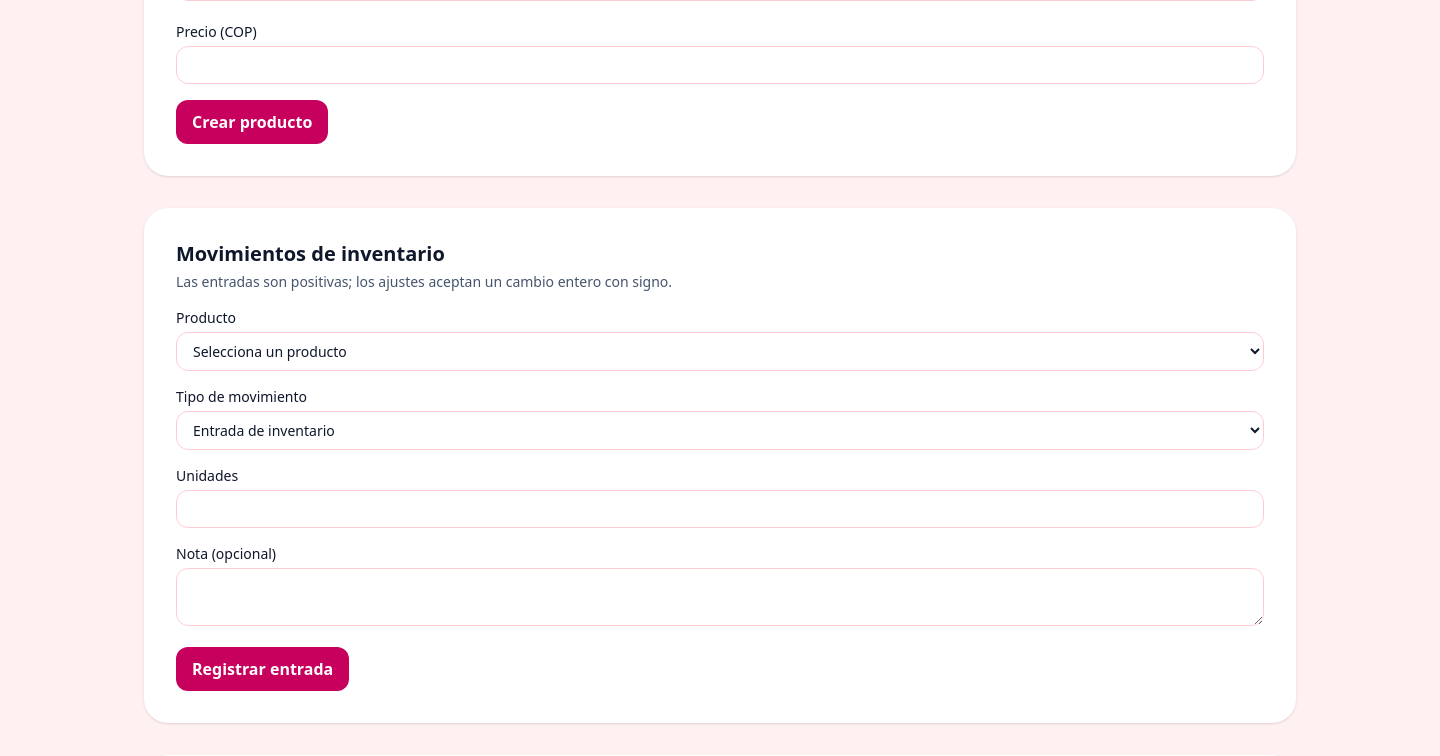
Scenario: administrator stock movement form › blocks duplicate submits while a stock mutation is pending
(page scrolled)
Select "KW-001 · Sticker kawaii" in the dropdown labelled "Producto" at (720,352), box [176,332,1264,371]
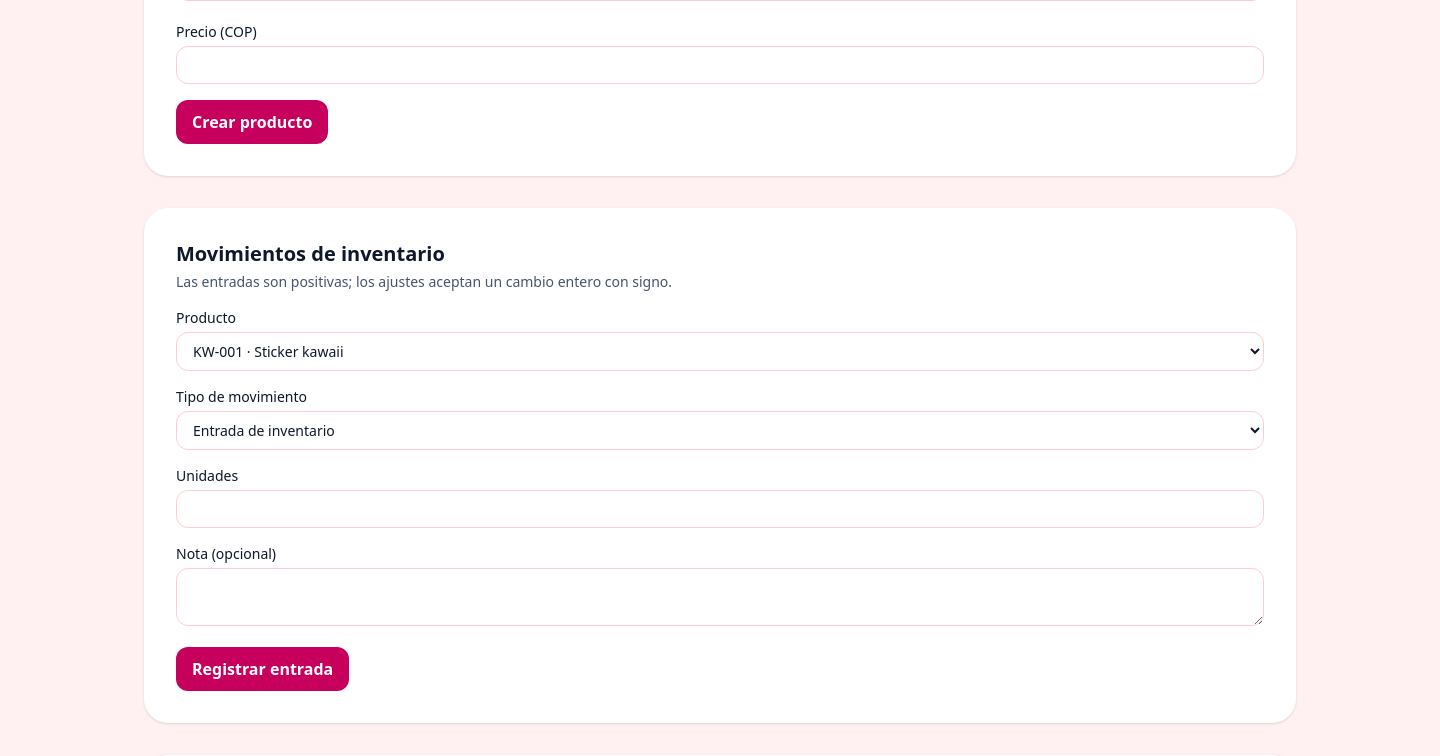
Type "3" into the number field labelled "Unidades" at (720,509), box [176,490,1264,528]
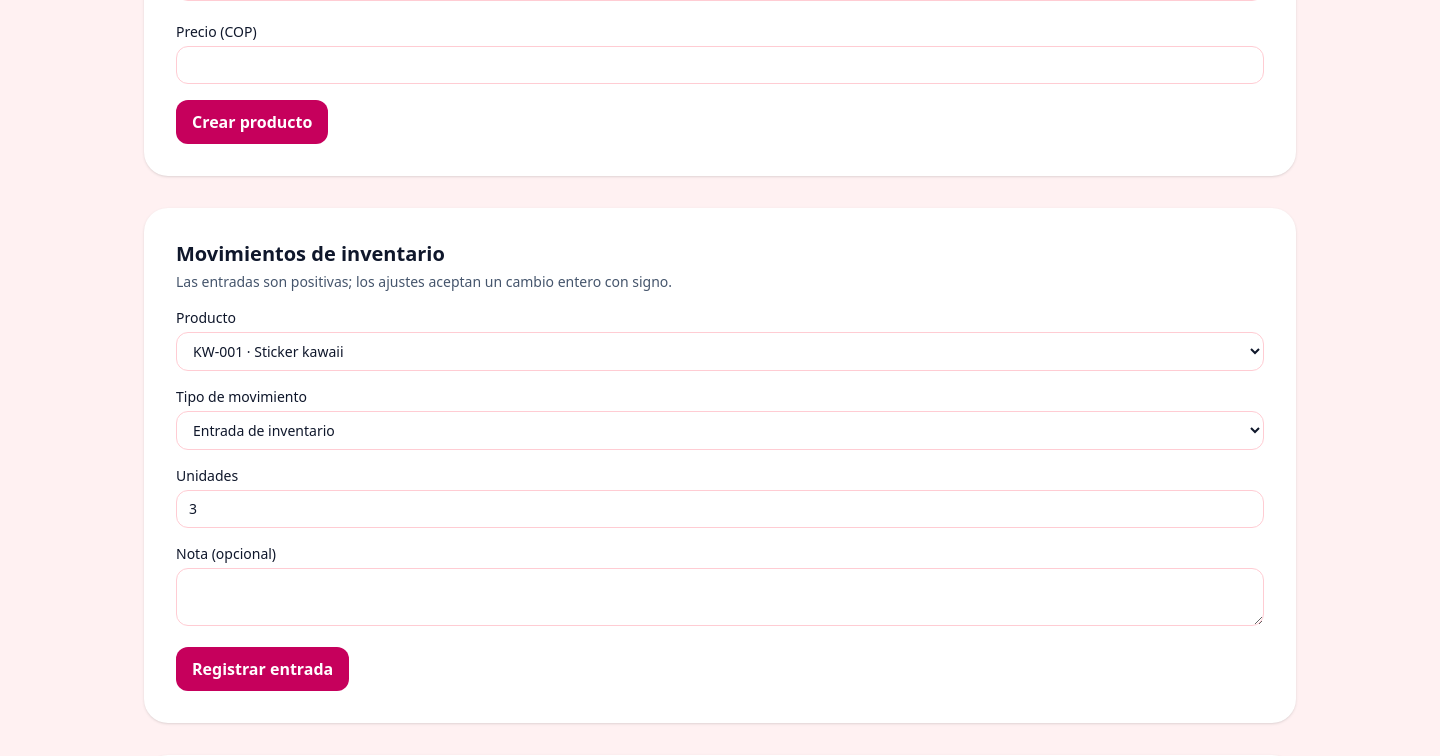
Submit the form named "Registrar movimiento de inventario", box [144,208,1296,723]
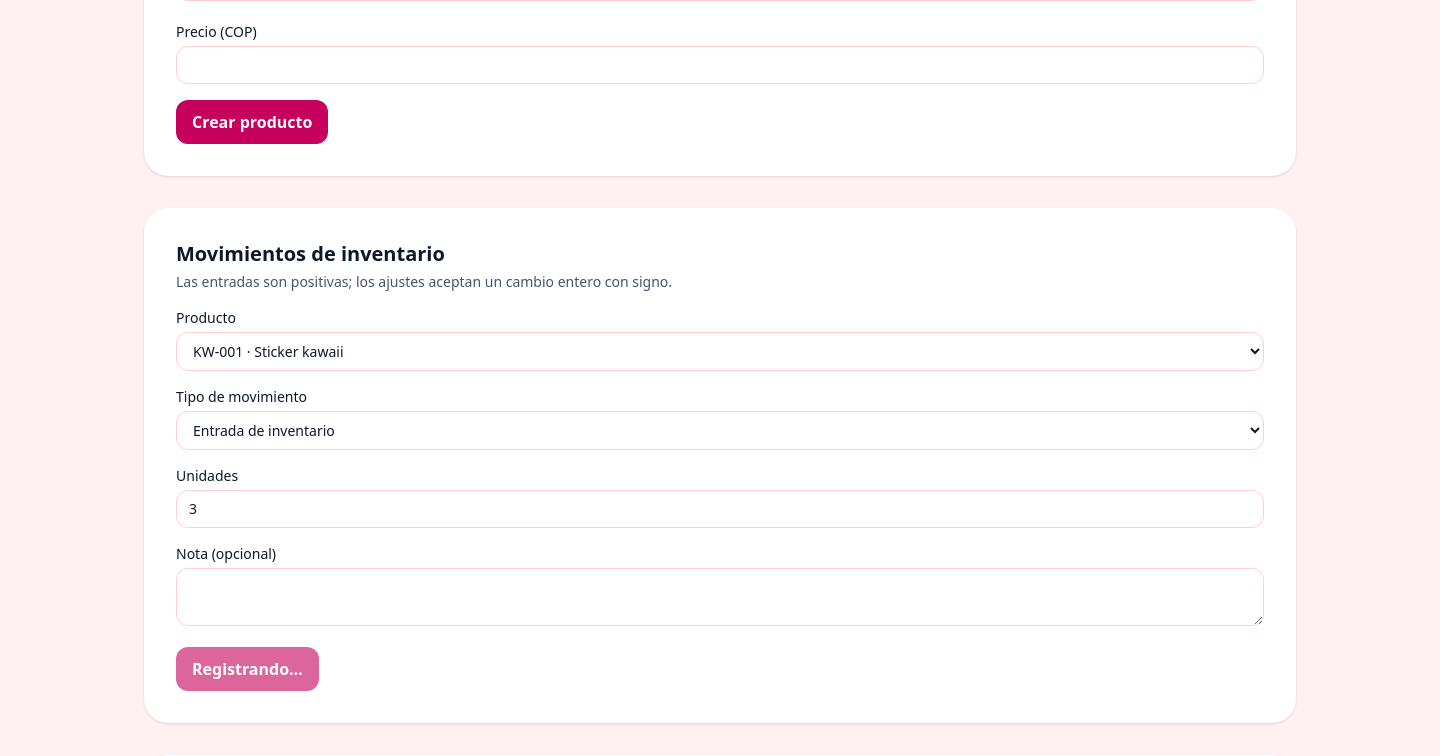
Submit the form named "Registrar movimiento de inventario", box [144,208,1296,723]
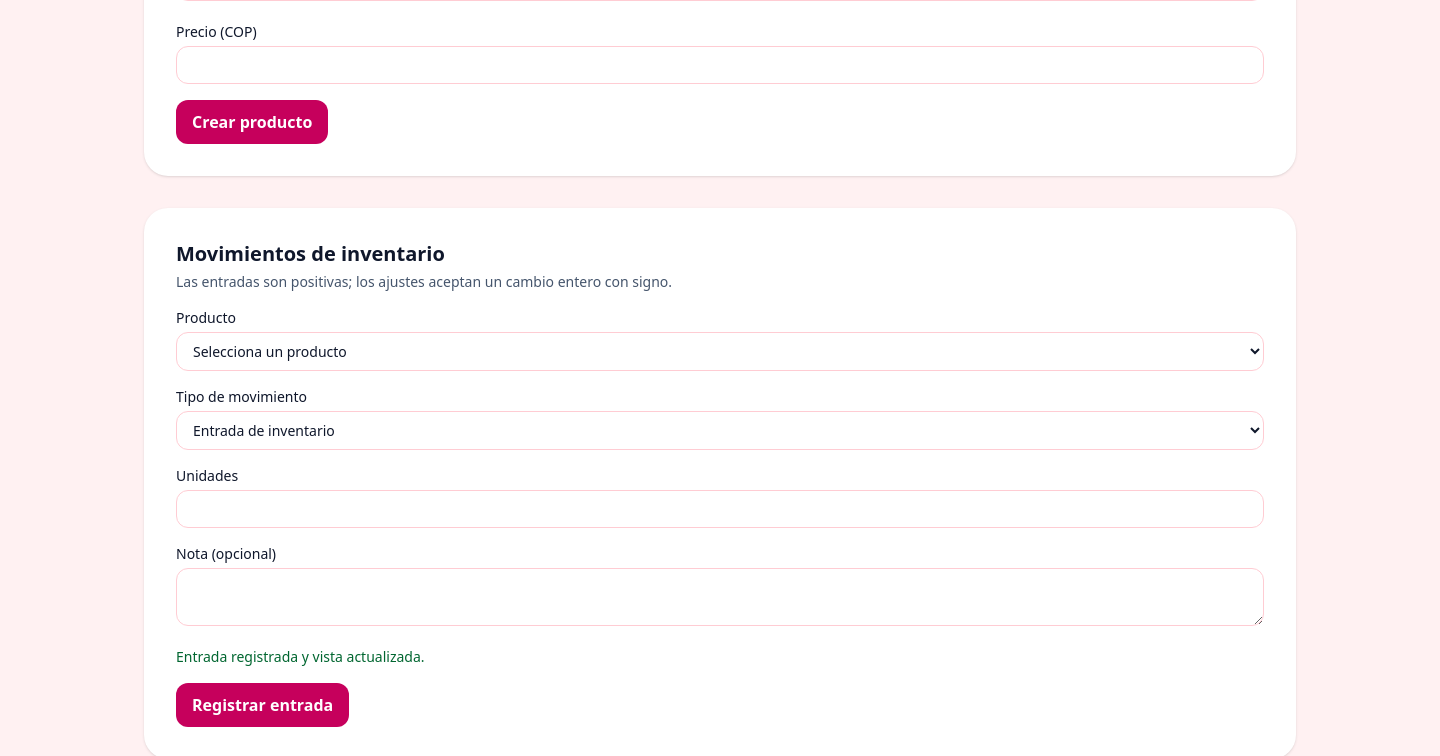
Expected: the text "Entrada registrada y vista actualizada." is shown, [176,647,425,666]
